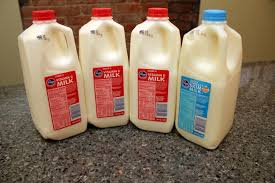milk: (180, 3, 240, 153), (23, 12, 86, 139), (127, 4, 183, 139), (80, 6, 130, 125)
